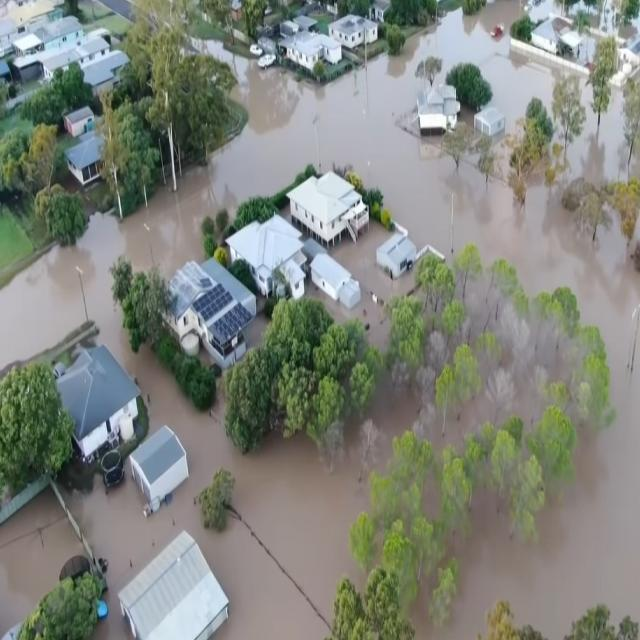flood: (0, 0, 640, 640), (0, 493, 80, 632)
house: (32, 336, 150, 478), (118, 524, 235, 640), (154, 256, 258, 366), (227, 215, 308, 304), (126, 421, 192, 515), (288, 177, 364, 247), (39, 28, 114, 70), (310, 255, 365, 312), (58, 129, 110, 188), (288, 26, 340, 83), (373, 223, 421, 282), (78, 49, 128, 104), (329, 10, 381, 61), (422, 78, 458, 138), (530, 15, 573, 58), (10, 28, 43, 82), (474, 104, 506, 138), (252, 34, 276, 70), (368, 0, 392, 26)
